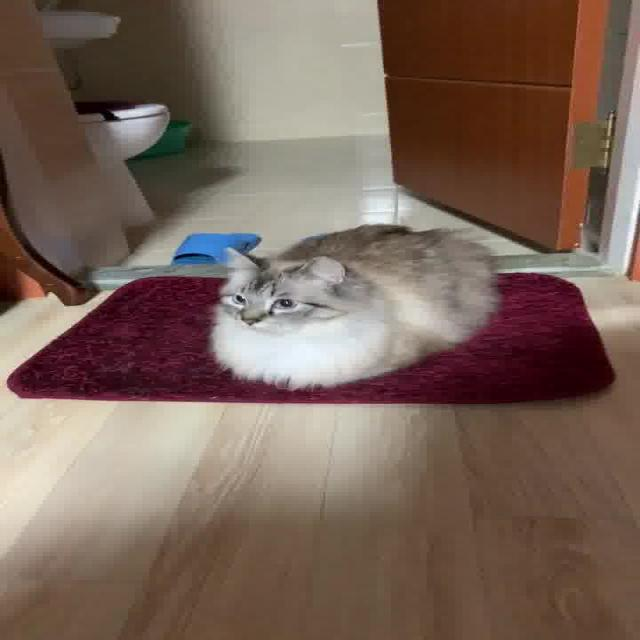cat: (208, 219, 506, 390)
